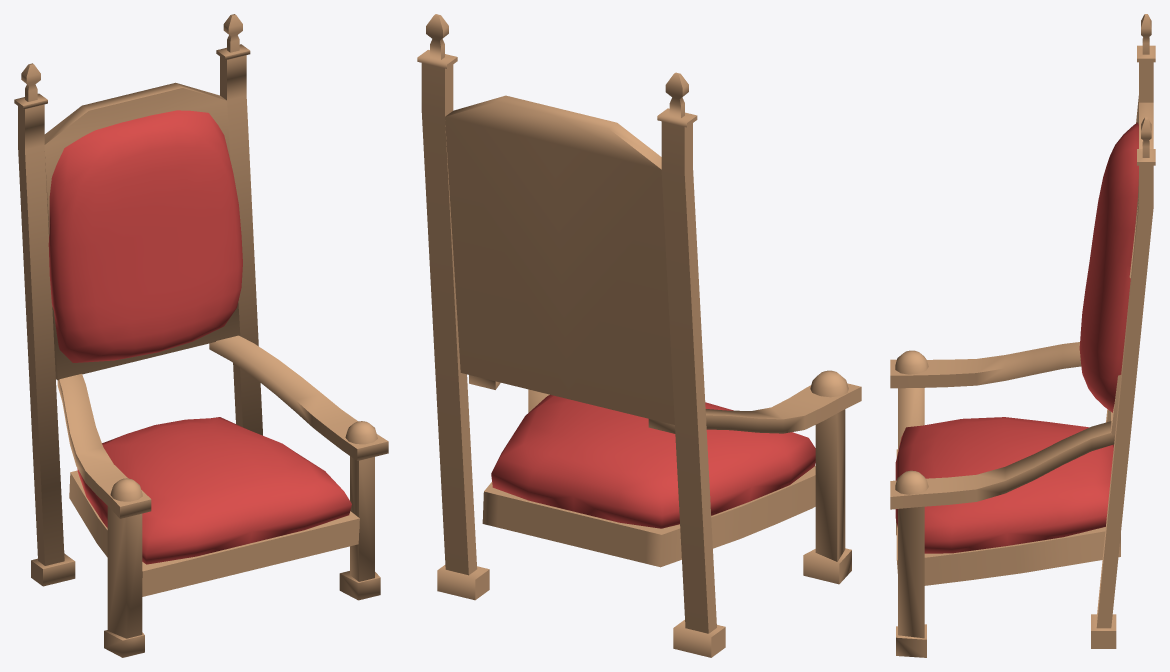
The model's file is santa chair.fbx.
3 renders of one model, left to right at view 1: azimuth 30°, elevation 25°; view 2: azimuth 150°, elevation 25°; view 3: azimuth 270°, elevation 25°, orthographic. The views are drawn at different scales.
Parts seen in each view (by area): view 1: chair; view 2: chair; view 3: chair.
Boxes of the visible parts, x1=… form: chair: x1=14, y1=14, x2=388, y2=657; chair: x1=417, y1=14, x2=861, y2=657; chair: x1=890, y1=14, x2=1155, y2=657.
Size of the model in its own units: 101 by 179 by 82.36.
